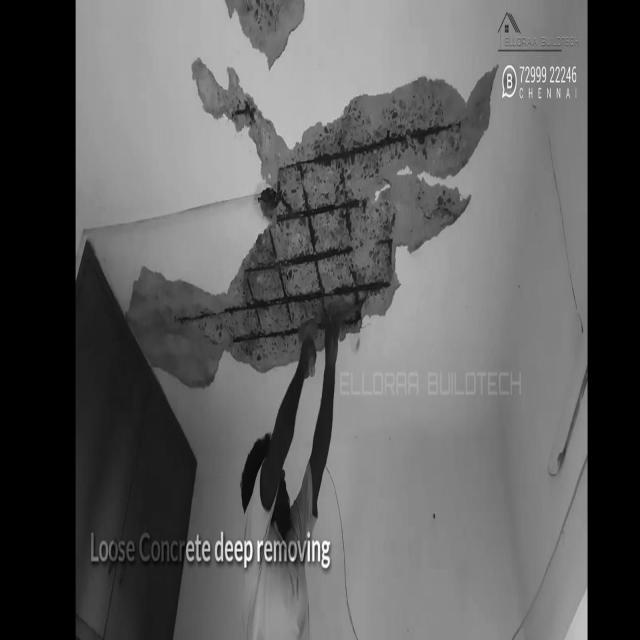Spalling: (128, 58, 502, 393), (214, 2, 315, 58)
